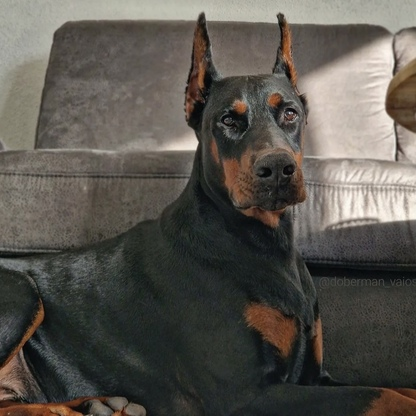doberman: (178, 10, 319, 227)
